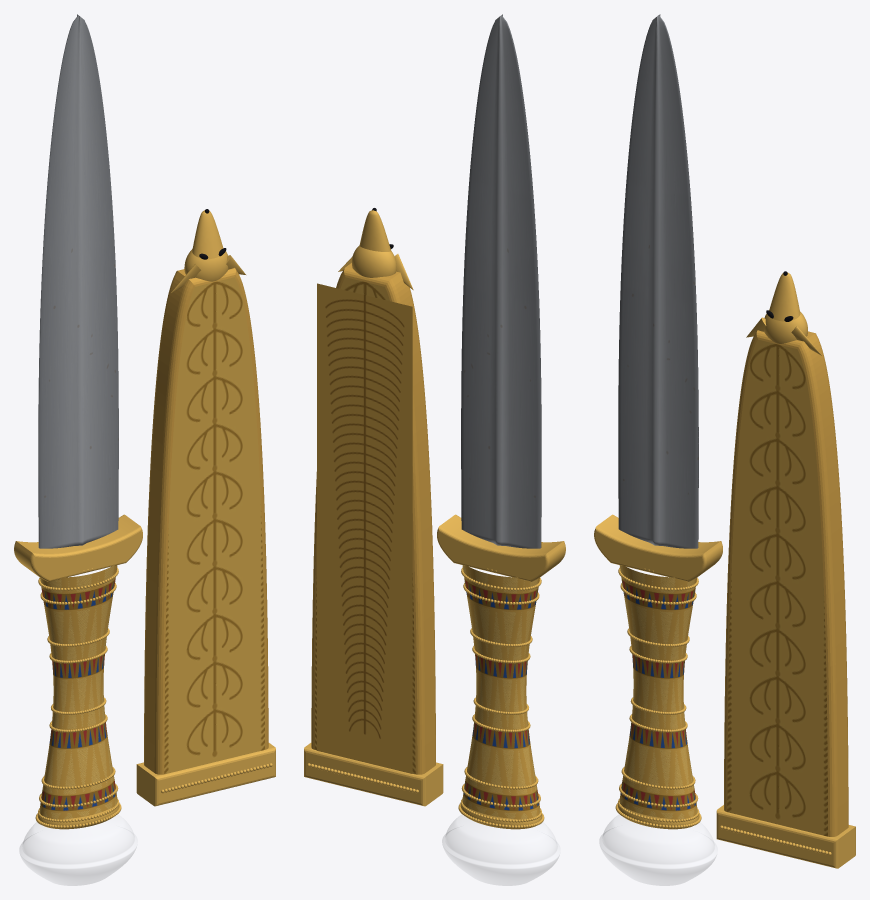
3 renders of one model, left to right at view 1: azimuth 30°, elevation 25°; view 2: azimuth 150°, elevation 25°; view 3: azimuth 330°, elevation 25°, orthographic.
Parts seen in each view (by area): view 1: sheath_body, blade_meteoric_iron, haft_gold_granulation_cloisonne, pommel_rock_crystal, guard_gold, sheath_mouth_band, haft_bead_rows, jackal_muzzle, jackal_skull, collar_granulation, collar_gold; view 2: sheath_feathers_side, blade_meteoric_iron, haft_gold_granulation_cloisonne, sheath_body, pommel_rock_crystal, guard_gold, sheath_mouth_band, haft_bead_rows, jackal_skull, jackal_muzzle, collar_granulation, collar_gold; view 3: sheath_body, blade_meteoric_iron, haft_gold_granulation_cloisonne, pommel_rock_crystal, guard_gold, sheath_mouth_band, haft_bead_rows, jackal_muzzle, jackal_skull, collar_granulation, collar_gold.
Boxes of the visible parts, x1=… form: sheath_body: x1=144, y1=268, x2=268, y2=774; blade_meteoric_iron: x1=38, y1=14, x2=118, y2=548; haft_gold_granulation_cloisonne: x1=39, y1=565, x2=117, y2=819; pommel_rock_crystal: x1=19, y1=815, x2=137, y2=885; guard_gold: x1=14, y1=514, x2=142, y2=581; sheath_mouth_band: x1=136, y1=743, x2=275, y2=806; haft_bead_rows: x1=38, y1=567, x2=118, y2=807; jackal_muzzle: x1=192, y1=210, x2=223, y2=259; jackal_skull: x1=184, y1=249, x2=228, y2=281; collar_granulation: x1=35, y1=798, x2=121, y2=828; collar_gold: x1=37, y1=804, x2=119, y2=829; sheath_feathers_side: x1=317, y1=283, x2=412, y2=773; blade_meteoric_iron: x1=461, y1=14, x2=541, y2=548; haft_gold_granulation_cloisonne: x1=462, y1=565, x2=540, y2=819; sheath_body: x1=311, y1=263, x2=435, y2=774; pommel_rock_crystal: x1=442, y1=815, x2=560, y2=885; guard_gold: x1=437, y1=514, x2=565, y2=581; sheath_mouth_band: x1=304, y1=743, x2=443, y2=806; haft_bead_rows: x1=461, y1=567, x2=541, y2=807; jackal_skull: x1=352, y1=245, x2=396, y2=277; jackal_muzzle: x1=359, y1=210, x2=391, y2=251; collar_granulation: x1=458, y1=798, x2=544, y2=828; collar_gold: x1=460, y1=804, x2=542, y2=829; sheath_body: x1=724, y1=330, x2=848, y2=836; blade_meteoric_iron: x1=618, y1=14, x2=698, y2=548; haft_gold_granulation_cloisonne: x1=619, y1=565, x2=697, y2=819; pommel_rock_crystal: x1=599, y1=814, x2=717, y2=885; guard_gold: x1=594, y1=514, x2=722, y2=581; sheath_mouth_band: x1=716, y1=805, x2=855, y2=868; haft_bead_rows: x1=618, y1=567, x2=698, y2=807; jackal_muzzle: x1=769, y1=272, x2=800, y2=321; jackal_skull: x1=764, y1=311, x2=807, y2=343; collar_granulation: x1=615, y1=799, x2=701, y2=828; collar_gold: x1=617, y1=804, x2=699, y2=829.
Size of the model in its own units: 9.96 by 33.4 by 3.52.
Materials: 8 (4 with a texture image).
